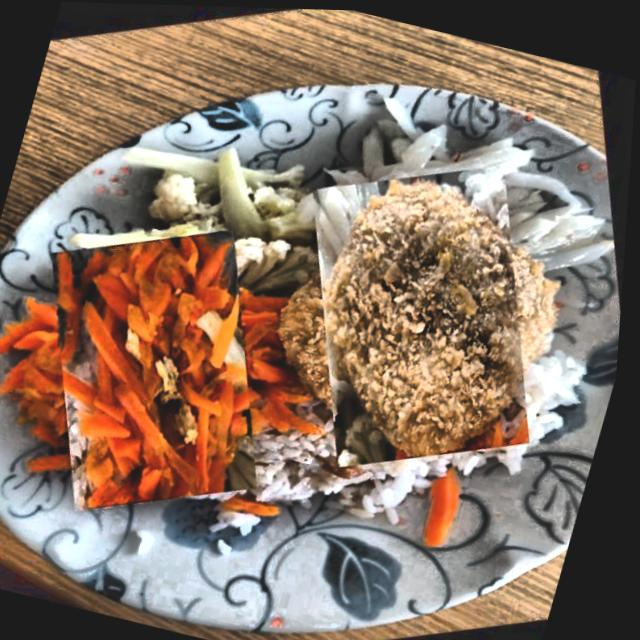Food: (235, 128, 617, 500), (0, 196, 337, 543), (159, 322, 562, 595)
